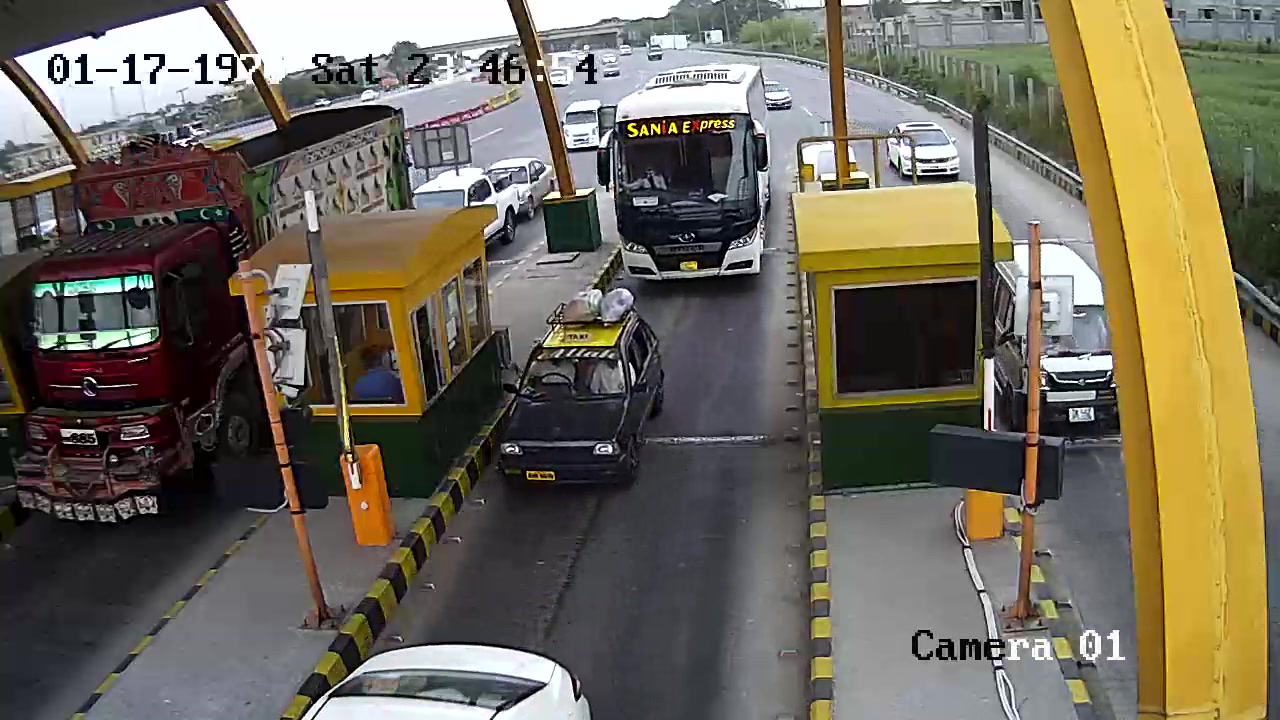F1: (485, 291, 683, 490)
F4: (614, 63, 774, 284)
